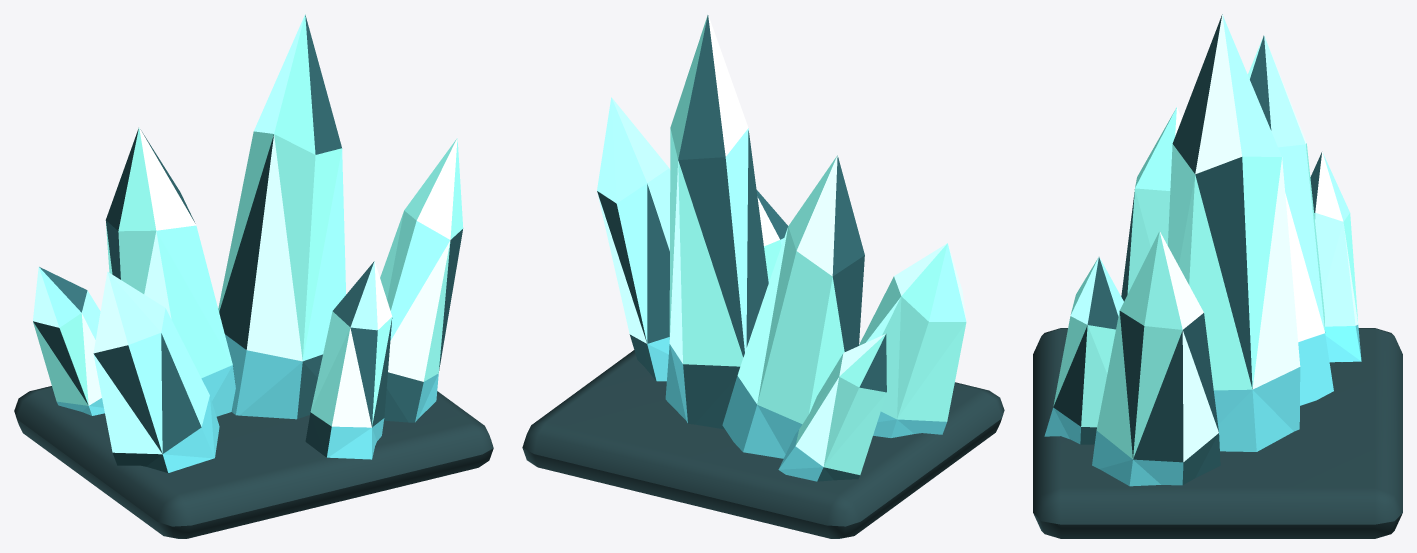
The model's file is crystal-growth-fan.glb.
The picture shows the model from 3 angles, left to right: view 1: azimuth 30°, elevation 25°; view 2: azimuth 150°, elevation 25°; view 3: azimuth 270°, elevation 25°; orthographic projection. The views are drawn at different scales.
Visible parts, largest first — view 1: Fan crystal.002, Crystal growth bed, Fan crystal, Fan crystal.001, Fan crystal.003, Fan crystal.004, Fan crystal.005; view 2: Crystal growth bed, Fan crystal.002, Fan crystal.001, Fan crystal.003, Fan crystal, Fan crystal.005, Fan crystal.004; view 3: Crystal growth bed, Fan crystal.002, Fan crystal.003, Fan crystal.001, Fan crystal.004, Fan crystal.005, Fan crystal.
Boxes of the visible parts, x1,y1,x2,y2 form: Fan crystal.002: (218,14,345,419); Crystal growth bed: (14,386,493,538); Fan crystal: (93,271,219,472); Fan crystal.001: (105,127,235,416); Fan crystal.003: (380,138,463,422); Fan crystal.004: (305,261,392,459); Fan crystal.005: (33,267,104,415); Crystal growth bed: (522,350,1004,538); Fan crystal.002: (665,14,768,429); Fan crystal.001: (722,155,864,458); Fan crystal.003: (597,97,670,381); Fan crystal: (859,243,966,437); Fan crystal.005: (778,334,886,481); Fan crystal.004: (756,190,788,282); Crystal growth bed: (1033,328,1402,538); Fan crystal.002: (1167,14,1300,451); Fan crystal.003: (1092,231,1220,486); Fan crystal.001: (1247,35,1333,405); Fan crystal.004: (1044,257,1123,444); Fan crystal.005: (1310,151,1361,362); Fan crystal: (1121,107,1181,301).
Size of the model in its own units: 1.52 by 1.7 by 1.2.
